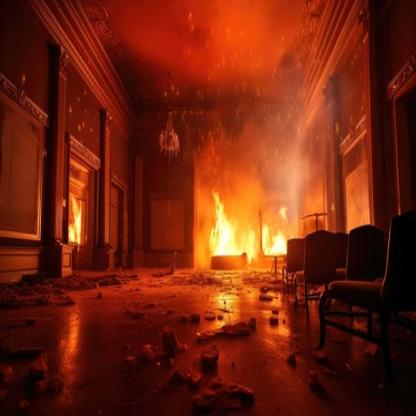fire: (209, 190, 291, 261), (68, 183, 86, 248)
smoke: (241, 44, 352, 241)
